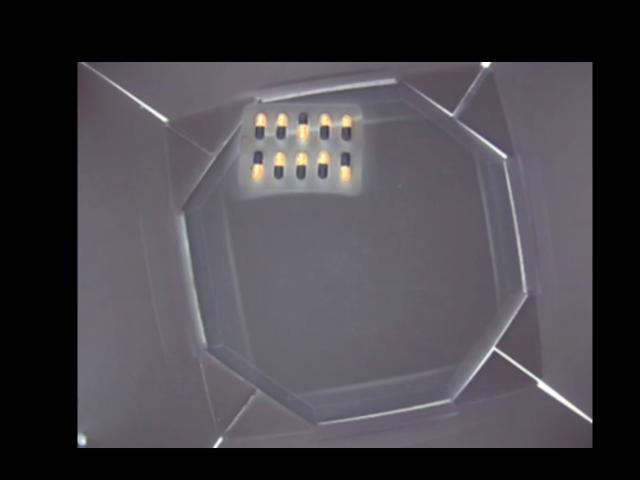Medicine: (239, 102, 365, 196)
